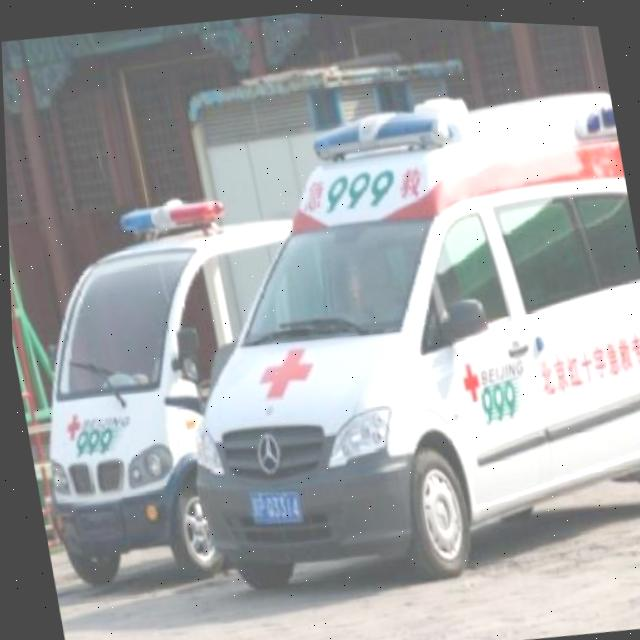emergency: (129, 57, 640, 613), (5, 172, 350, 600)
